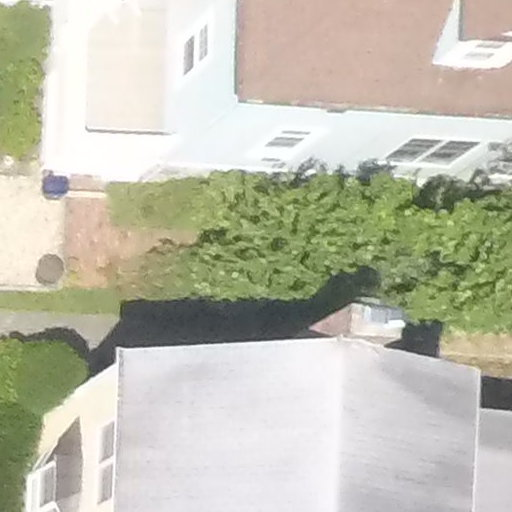trash bin: (18, 251, 73, 288), (35, 174, 71, 203)
